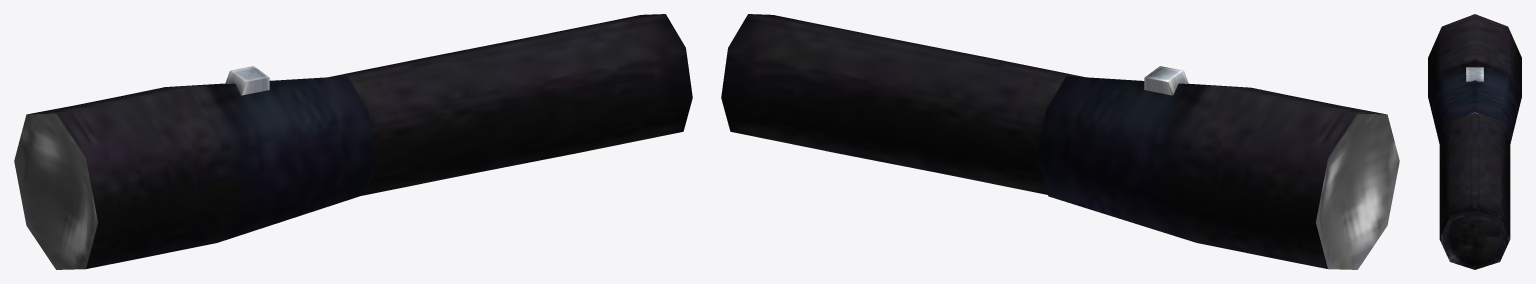
The model's file is torch.obj.
The picture shows the model from 3 angles, left to right: view 1: azimuth 30°, elevation 25°; view 2: azimuth 150°, elevation 25°; view 3: azimuth 270°, elevation 25°; orthographic projection. The views are drawn at different scales.
Parts seen in each view (by area): view 1: Group; view 2: Group; view 3: Group.
Part boxes in pixels (box(x1,y1,x2,y2)): Group: box(14, 14, 692, 269); Group: box(721, 14, 1399, 269); Group: box(1428, 14, 1521, 269).
Size of the model in its own units: 29.4 by 7.59 by 7.02.
1 material, 1 textured.
